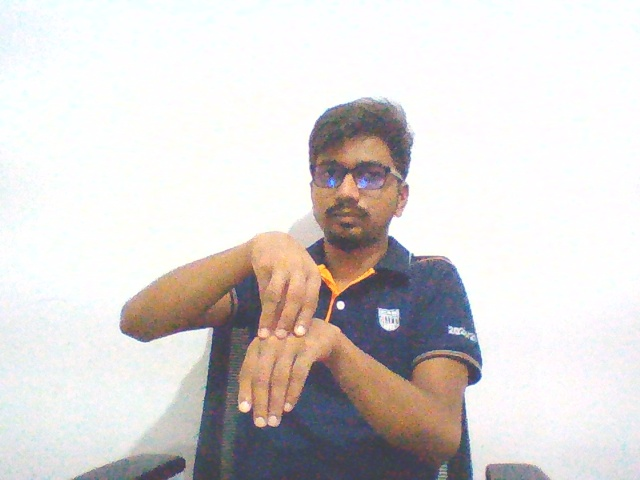papaya: (237, 226, 343, 435)
